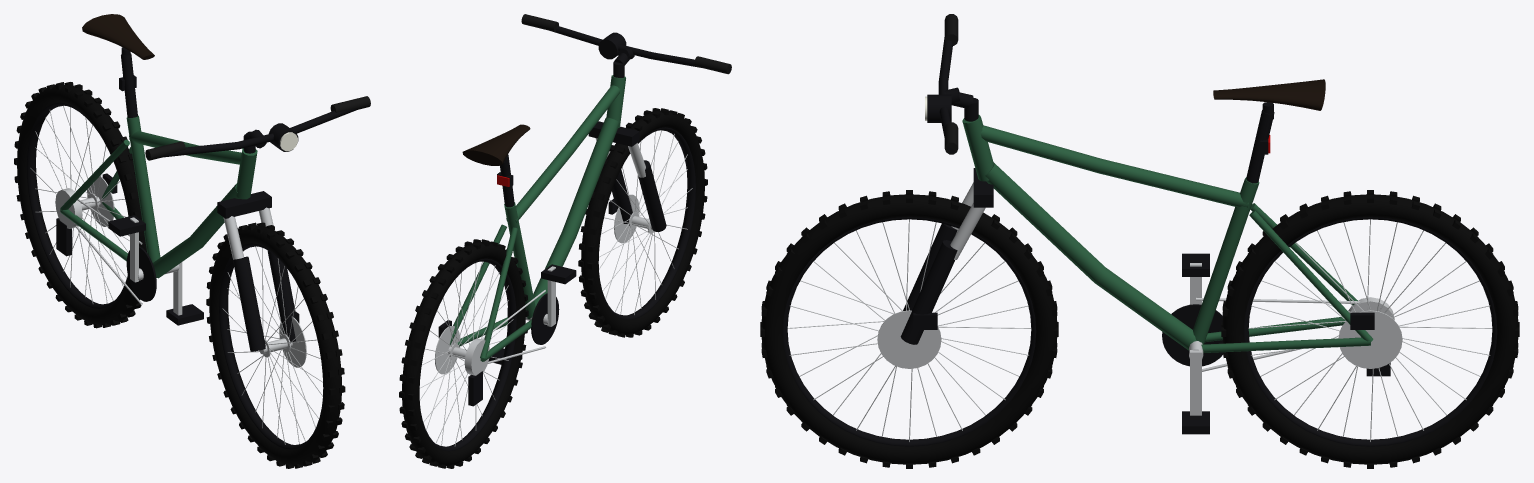
File: mtb.glb
The picture shows the model from 3 angles, left to right: view 1: azimuth 30°, elevation 25°; view 2: azimuth 150°, elevation 25°; view 3: azimuth 270°, elevation 25°; orthographic projection. The views are drawn at different scales.
Visible parts, largest first — view 1: wheel_front, wheel_rear, frame, fork, crank, light_front, pedal_r, pedal_l; view 2: wheel_rear, wheel_front, frame, fork, crank, light_front, pedal_r; view 3: wheel_rear, wheel_front, frame, fork, crank.
Boxes of the visible parts, <box> form: wheel_front: <box>206,222,345,468</box>; wheel_rear: <box>14,82,146,328</box>; frame: <box>56,14,257,304</box>; fork: <box>145,96,370,351</box>; crank: <box>126,217,182,315</box>; light_front: <box>268,123,298,151</box>; pedal_r: <box>108,215,145,236</box>; pedal_l: <box>166,304,203,325</box>; wheel_rear: <box>399,239,528,468</box>; wheel_front: <box>578,108,707,337</box>; frame: <box>438,75,625,406</box>; fork: <box>521,14,731,231</box>; crank: <box>507,266,559,344</box>; light_front: <box>598,32,626,59</box>; pedal_r: <box>541,264,576,284</box>; wheel_rear: <box>1221,190,1519,468</box>; wheel_front: <box>760,190,1058,468</box>; frame: <box>962,79,1390,376</box>; fork: <box>900,14,993,344</box>; crank: <box>1162,263,1222,415</box>.
Size of the model in its own units: 0.7628 by 1.06 by 1.89.
